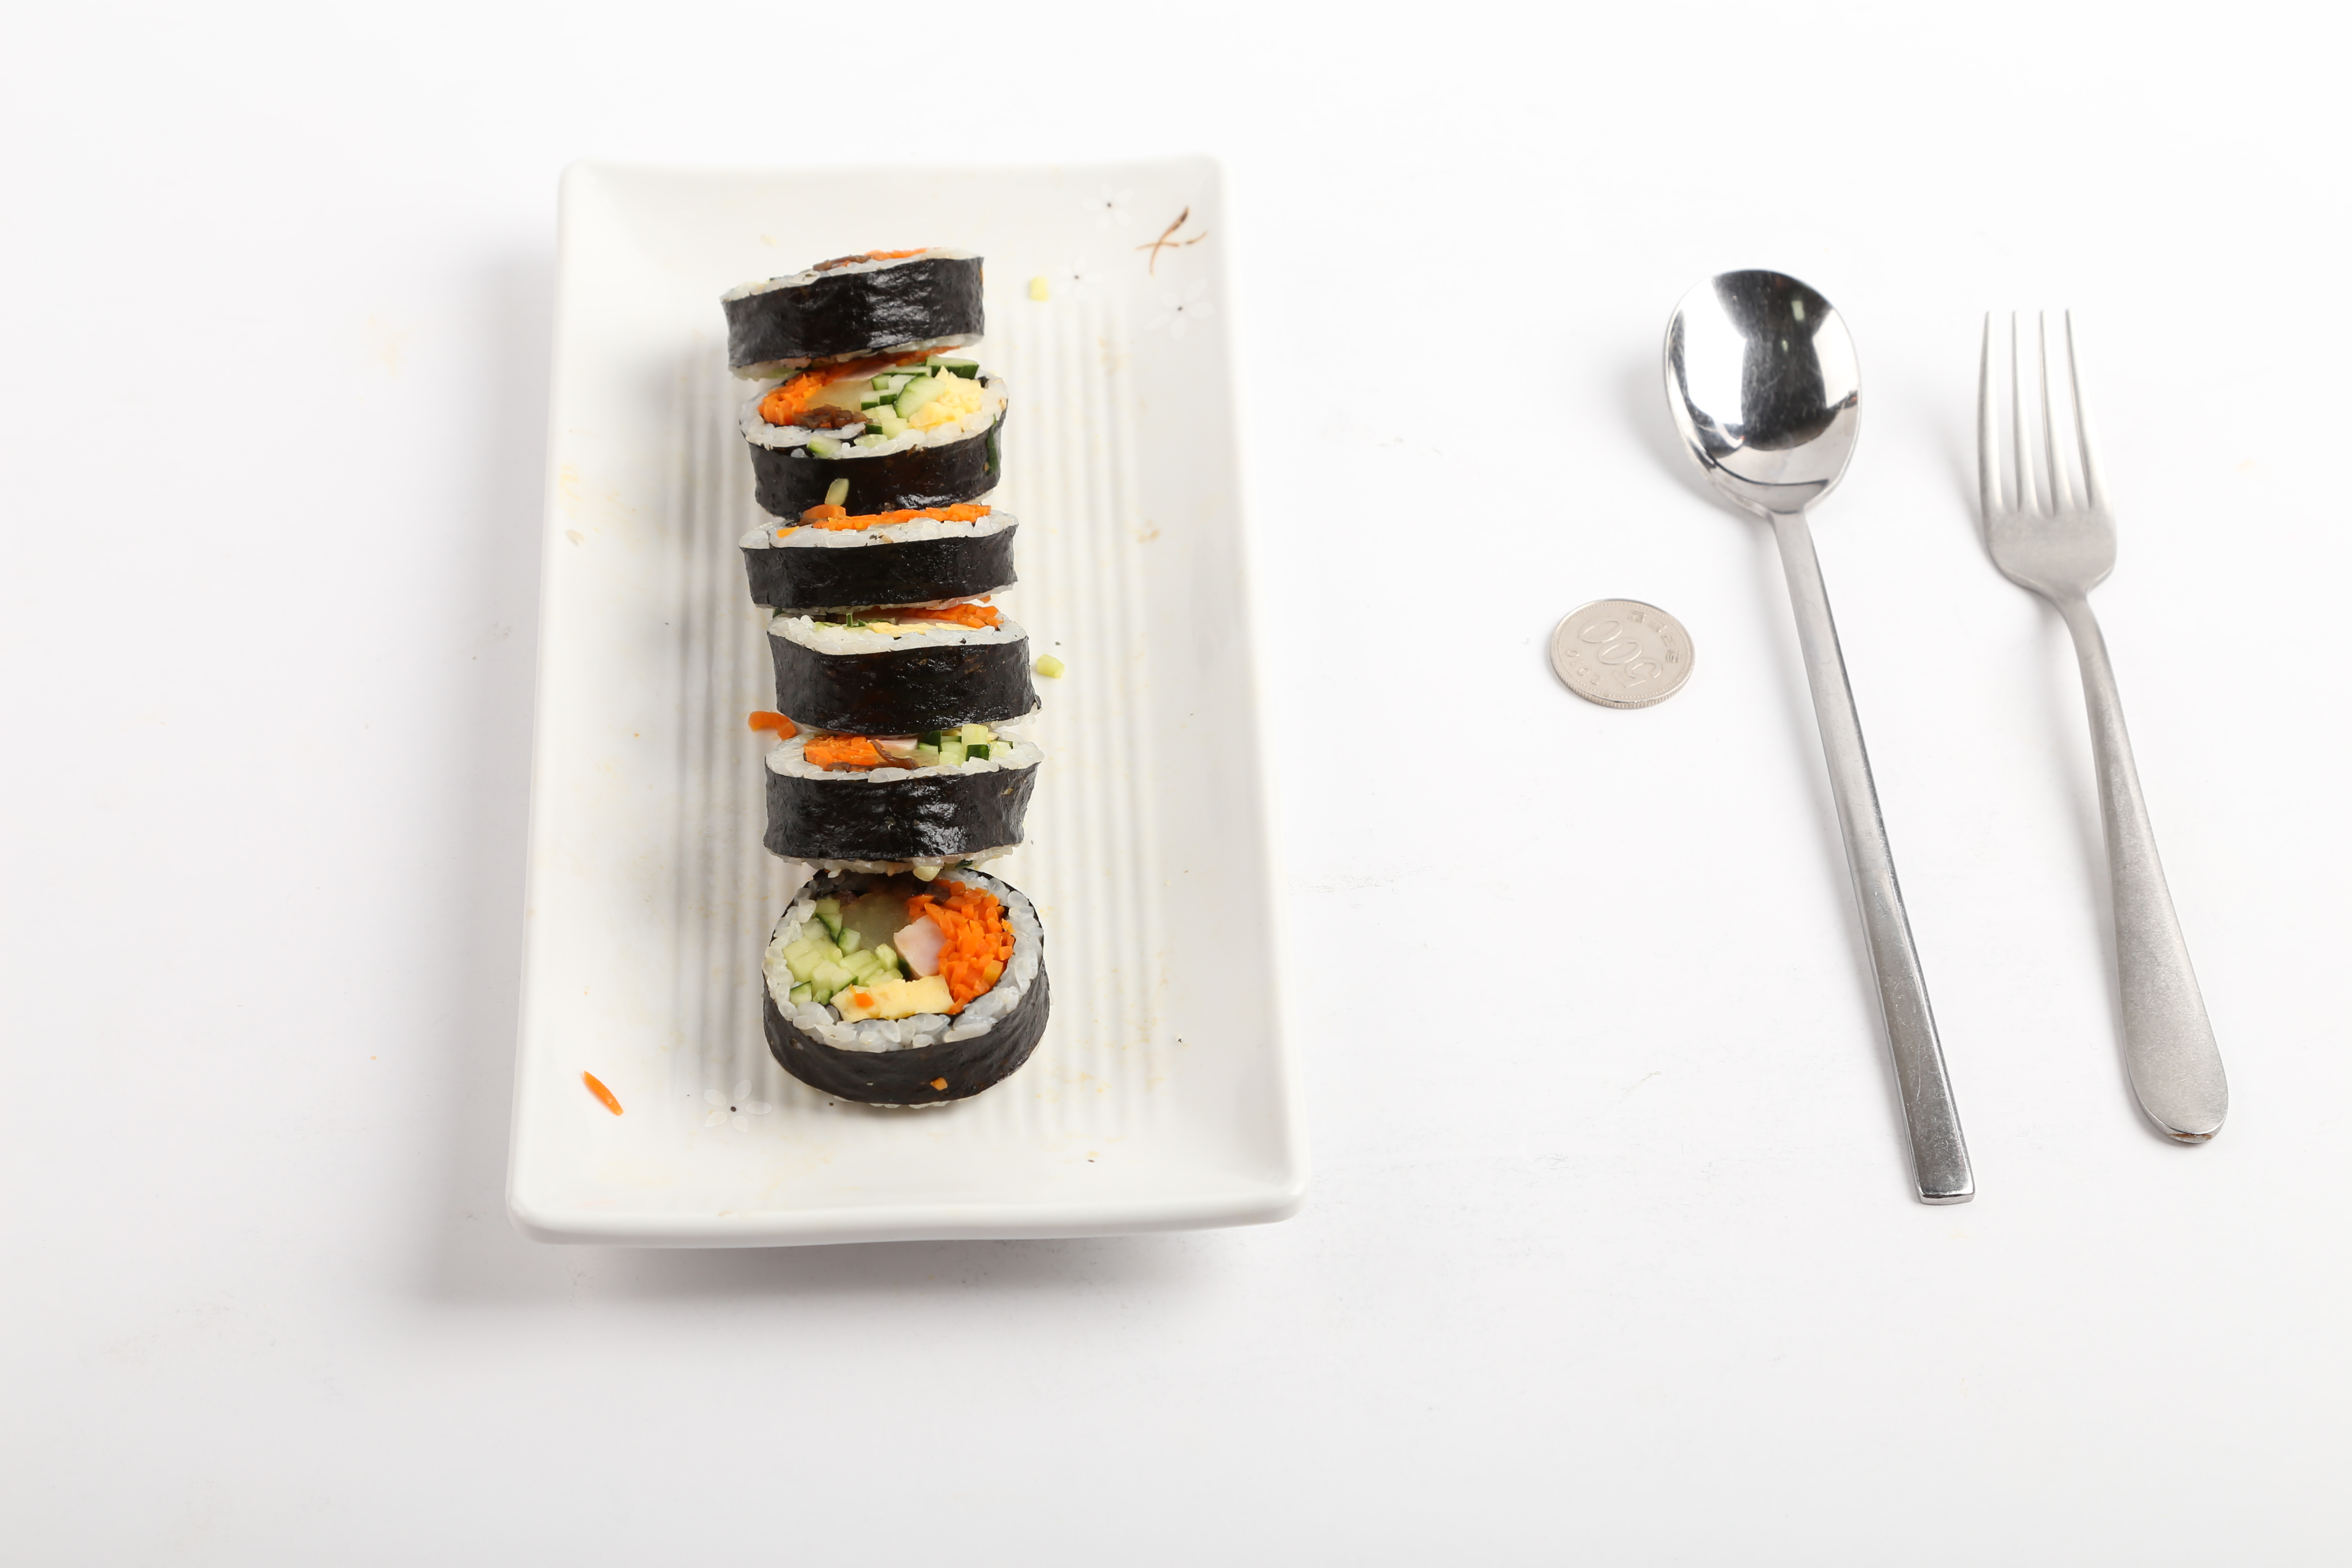dish: (490, 143, 1318, 1279)
ref_coin: (1538, 591, 1697, 717)
ref_fork: (1969, 311, 2124, 644)
ref_spoon: (1655, 261, 1864, 597)
김밥: (714, 236, 1055, 1116)
